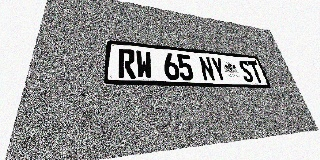5: (176, 54, 195, 81)
6: (162, 53, 180, 80)
N: (198, 56, 216, 81)
R: (118, 49, 136, 79)
S: (237, 60, 255, 82)
T: (247, 61, 265, 83)
W: (135, 50, 153, 79)
Y: (210, 57, 228, 82)
